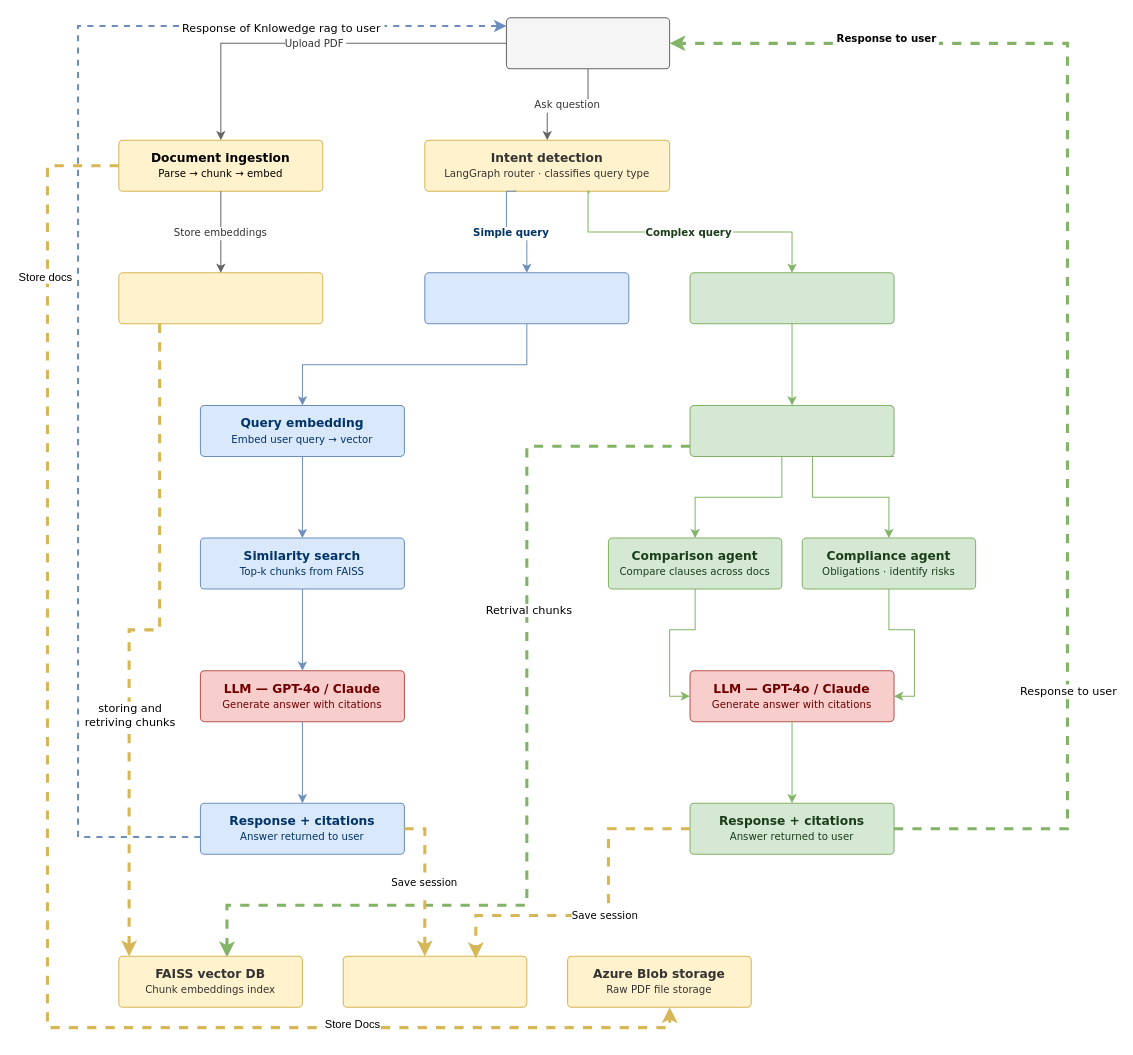
The diagram is 1133 pixels wide and 1055 high, and some of its shapes have lost their labels. Each missing label, with the centre of its shape:
"Agentic RAG doc · risk · compliance" belongs at pixel 791 298.
"Knowledge RAG Clause lookup · summaries · renewals" belongs at pixel 526 298.
"Retrieval agent Multi-doc FAISS fetch" belongs at pixel 791 430.
"SQLite Session + chat history" belongs at pixel 434 981.
"User Upload PDF · Ask question" belongs at pixel 587 43.
"Vector database FAISS · text-embedding-3-small" belongs at pixel 220 298.
